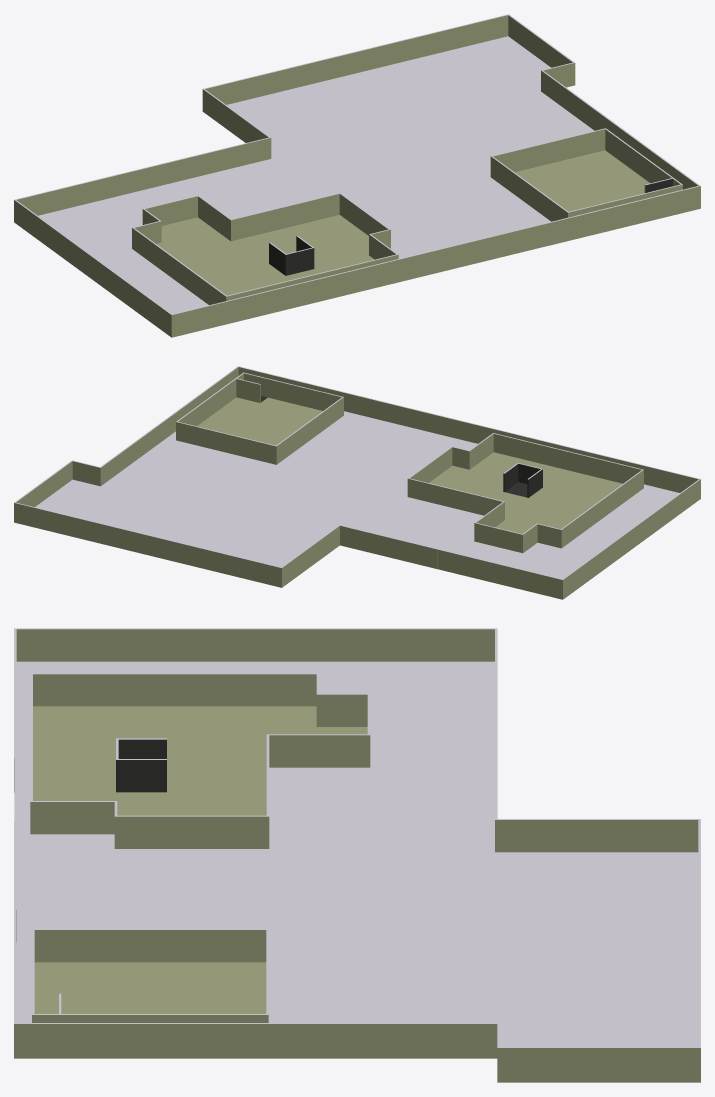
File: -1_floor.glb
The picture shows the model from 3 angles, top to bottom: view 1: azimuth 30°, elevation 25°; view 2: azimuth 150°, elevation 25°; view 3: azimuth 270°, elevation 25°; orthographic projection. The views are drawn at different scales.
Parts seen in each view (by area): view 1: Line047, Line046, Box595, Box515, Box582, Box497, Box562, Box547, Box519, Box598, Box580, Box614 (+19 smaller); view 2: Line047, Line046, Box595, Box515, Box599, Box497, Box519, Box580, Box562, Box614, Box598, Box604 (+20 smaller); view 3: Line047, Line046, Box580, Box595, Box604, Box612, Box516, Box593, Box518, Box605, Box535, Box499 (+6 smaller).
Boxes of the visible parts, x1,y1,x2,y2 form: Line047: (38, 36, 594, 313); Line046: (156, 215, 374, 295); Box595: (515, 150, 649, 211); Box515: (323, 15, 508, 81); Box582: (548, 186, 700, 245); Box497: (14, 165, 158, 222); Box562: (430, 223, 548, 274); Box547: (171, 287, 286, 337); Box519: (205, 60, 323, 104); Box598: (232, 194, 339, 240); Box580: (541, 71, 698, 189); Box614: (490, 129, 605, 177); Line047: (35, 411, 679, 579); Line046: (429, 452, 622, 533); Box595: (197, 397, 322, 445); Box515: (14, 503, 176, 562); Box599: (493, 434, 643, 488); Box497: (437, 549, 563, 599); Box519: (177, 542, 280, 587); Box580: (101, 367, 238, 485); Box562: (370, 399, 474, 442); Box614: (176, 422, 277, 464); Box598: (407, 478, 502, 515); Box604: (561, 470, 643, 547); Line047: (16, 661, 698, 1046); Line046: (33, 706, 367, 815); Box580: (14, 1024, 497, 1058); Box595: (34, 962, 266, 1013); Box604: (33, 674, 316, 706); Box612: (34, 930, 266, 962); Box516: (497, 1048, 698, 1082); Box593: (166, 629, 370, 661); Box518: (497, 820, 698, 852); Box605: (114, 816, 266, 848); Box535: (16, 629, 166, 661); Box499: (370, 629, 494, 661).
Bounding box in the file's own units: 117084 × 4500 × 81007.
